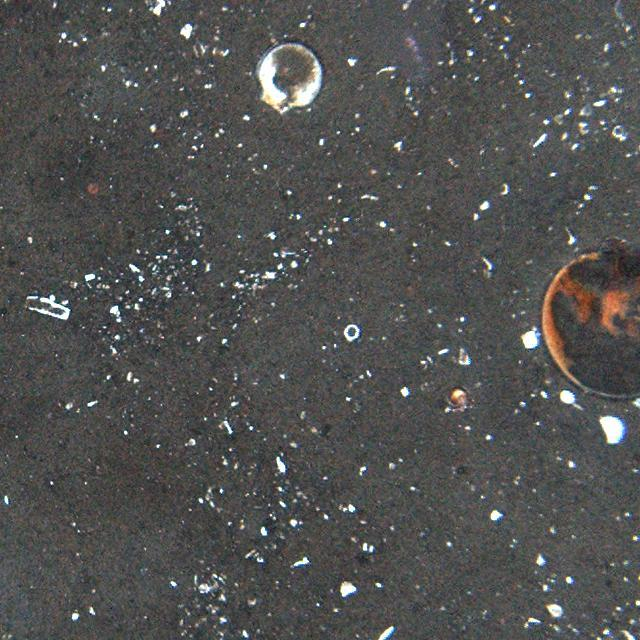scallop: (530, 242, 640, 402)
